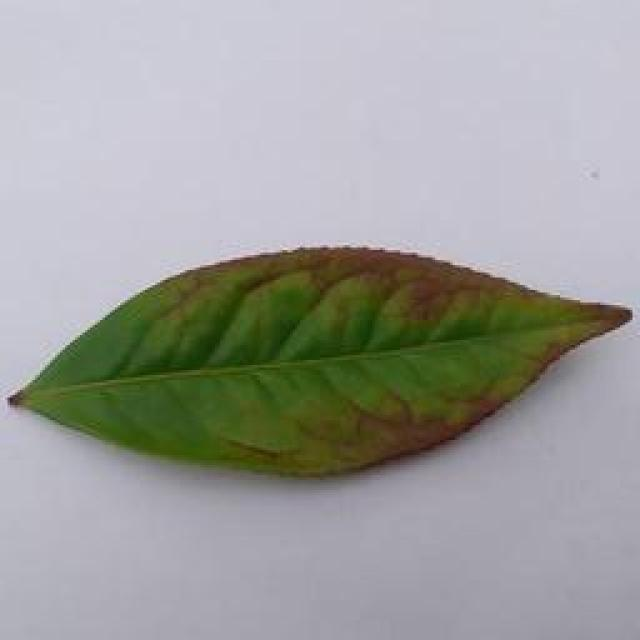Red Leaf Spot: (0, 212, 640, 520)
